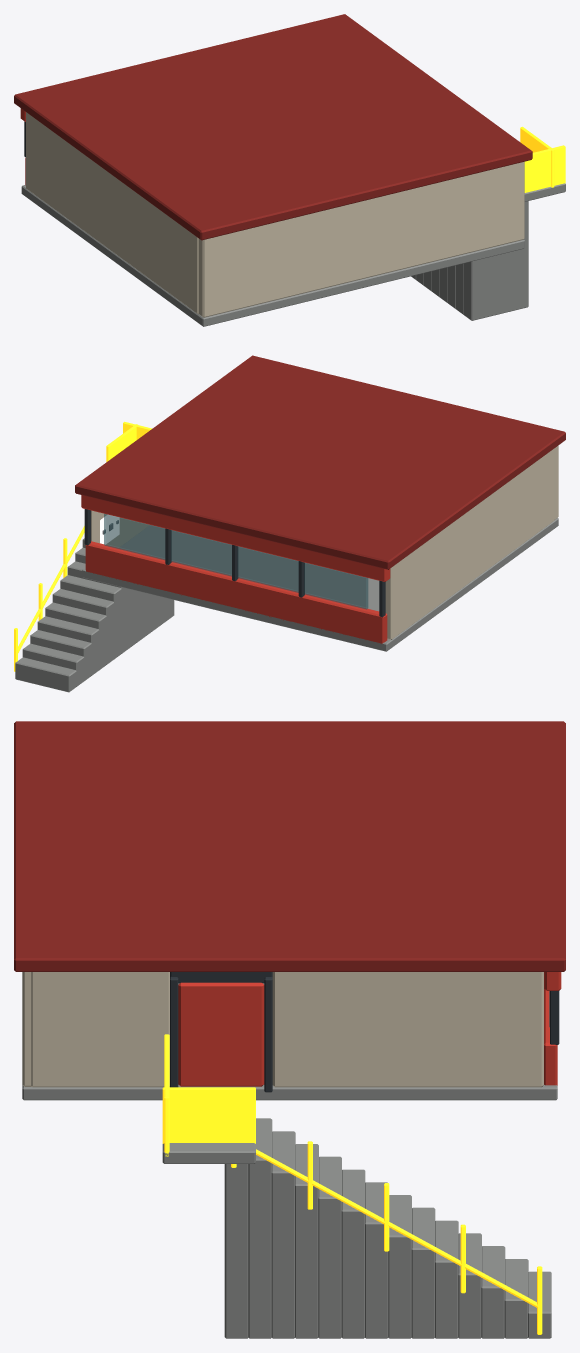
Rendered from second_floor.glb.
3 renders of one model, top to bottom at view 1: azimuth 30°, elevation 25°; view 2: azimuth 150°, elevation 25°; view 3: azimuth 270°, elevation 25°, orthographic. The views are drawn at different scales.
Visible parts, largest first — view 1: UpperRoof, UpperBackWall, UpperLeftWall, UpperFloor, StairStep14, LandingRailBack, LandingRailSide, UpperLanding; view 2: UpperRoof, UpperLeftWall, UpperFloor, UpperFrontBase, UpperFrontGlass, UpperFascia, StairStep01, StairStep07, StairStep06, StairStep05, StairStep04, StairStep03 (+8 smaller); view 3: UpperRoof, UpperRightWallFront, UpperRightWallBack, UpperDoor, UpperFloor, LandingRailSide, StairStep13, StairStep12, StairStep14, StairStep11, StairStep10, StairStep09 (+15 smaller).
Boxes of the visible parts, bbox=[...] form: UpperRoof: bbox=[14, 14, 532, 240]; UpperBackWall: bbox=[199, 161, 524, 317]; UpperLeftWall: bbox=[26, 112, 198, 314]; UpperFloor: bbox=[21, 185, 524, 326]; StairStep14: bbox=[463, 201, 528, 320]; LandingRailBack: bbox=[524, 145, 565, 192]; LandingRailSide: bbox=[520, 126, 554, 187]; UpperLanding: bbox=[524, 183, 565, 201]; UpperRoof: bbox=[75, 355, 565, 569]; UpperLeftWall: bbox=[385, 448, 554, 639]; UpperFloor: bbox=[82, 518, 558, 651]; UpperFrontBase: bbox=[85, 541, 387, 643]; UpperFrontGlass: bbox=[104, 513, 368, 609]; UpperFascia: bbox=[81, 495, 390, 581]; StairStep01: bbox=[15, 657, 76, 692]; StairStep07: bbox=[60, 575, 121, 659]; StairStep06: bbox=[52, 588, 114, 664]; StairStep05: bbox=[45, 602, 106, 670]; StairStep04: bbox=[37, 616, 99, 675]; StairStep03: bbox=[30, 630, 91, 680]; UpperRoof: bbox=[14, 721, 565, 971]; UpperRightWallFront: bbox=[272, 972, 543, 1087]; UpperRightWallBack: bbox=[31, 972, 169, 1087]; UpperDoor: bbox=[178, 982, 264, 1086]; UpperFloor: bbox=[22, 983, 557, 1100]; LandingRailSide: bbox=[162, 1087, 255, 1143]; StairStep13: bbox=[248, 1118, 272, 1338]; StairStep12: bbox=[271, 1131, 295, 1338]; StairStep14: bbox=[224, 1164, 248, 1338]; StairStep11: bbox=[295, 1144, 318, 1338]; StairStep10: bbox=[318, 1156, 341, 1338]; StairStep09: bbox=[341, 1169, 365, 1338].
Bounding box in the file's own units: 11.82 × 6.13 × 9.24.
